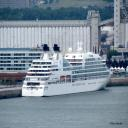cruises: (22, 42, 112, 100)
